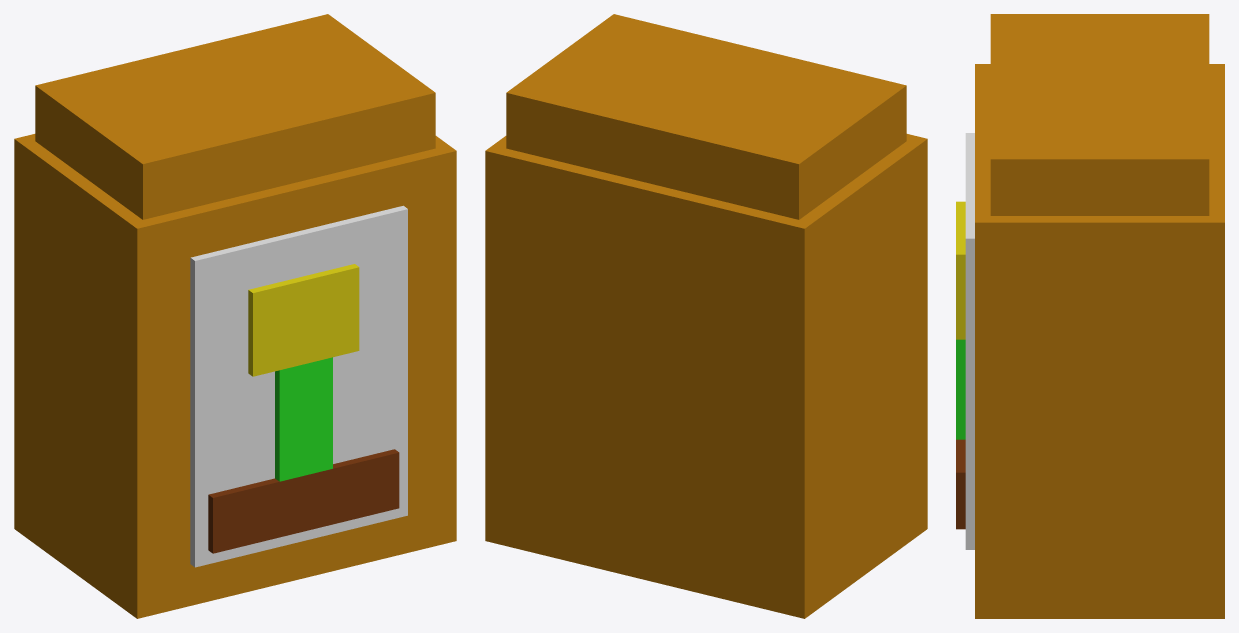
The model's file is Manure.fbx.
The picture shows the model from 3 angles, left to right: view 1: azimuth 30°, elevation 25°; view 2: azimuth 150°, elevation 25°; view 3: azimuth 270°, elevation 25°; orthographic projection.
Parts seen in each view (by area): view 1: Cube.001, Cube.006, Cube.003, Cube.002, Cube.005, Cube.004; view 2: Cube.001, Cube.006; view 3: Cube.001, Cube.006, Cube.003, Cube.005, Cube.004, Cube.002.
Boxes of the visible parts, x1,y1,x2,y2 form: Cube.001: [14, 134, 456, 618]; Cube.006: [35, 14, 435, 219]; Cube.003: [190, 205, 407, 567]; Cube.002: [208, 449, 399, 553]; Cube.005: [248, 264, 359, 376]; Cube.004: [275, 357, 332, 481]; Cube.001: [485, 134, 927, 618]; Cube.006: [506, 14, 906, 219]; Cube.001: [975, 64, 1224, 618]; Cube.006: [990, 14, 1209, 215]; Cube.003: [965, 133, 974, 549]; Cube.005: [956, 201, 965, 339]; Cube.004: [956, 339, 965, 439]; Cube.002: [956, 439, 965, 529].
Bounding box in the file's own units: 120 × 160 × 86.
